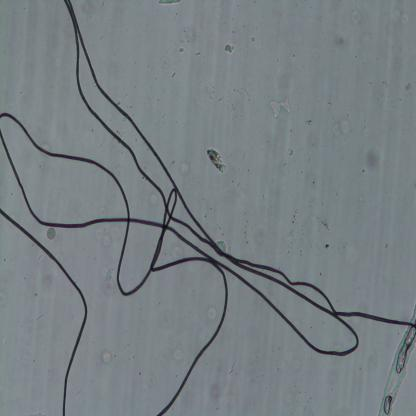Background material: (200, 146, 228, 175), (264, 97, 294, 121), (362, 145, 384, 172), (384, 6, 409, 25), (332, 116, 351, 140), (101, 268, 115, 298), (92, 226, 112, 247), (140, 370, 160, 390), (99, 346, 118, 365), (171, 347, 188, 365), (348, 7, 362, 25), (147, 192, 160, 210), (45, 226, 58, 242), (208, 304, 218, 322), (223, 43, 238, 55), (160, 0, 182, 8), (176, 164, 188, 178), (319, 215, 331, 229), (404, 80, 412, 94)
Cellulose filter fibre: (378, 302, 416, 415)
Microfibre: (0, 0, 416, 415)
